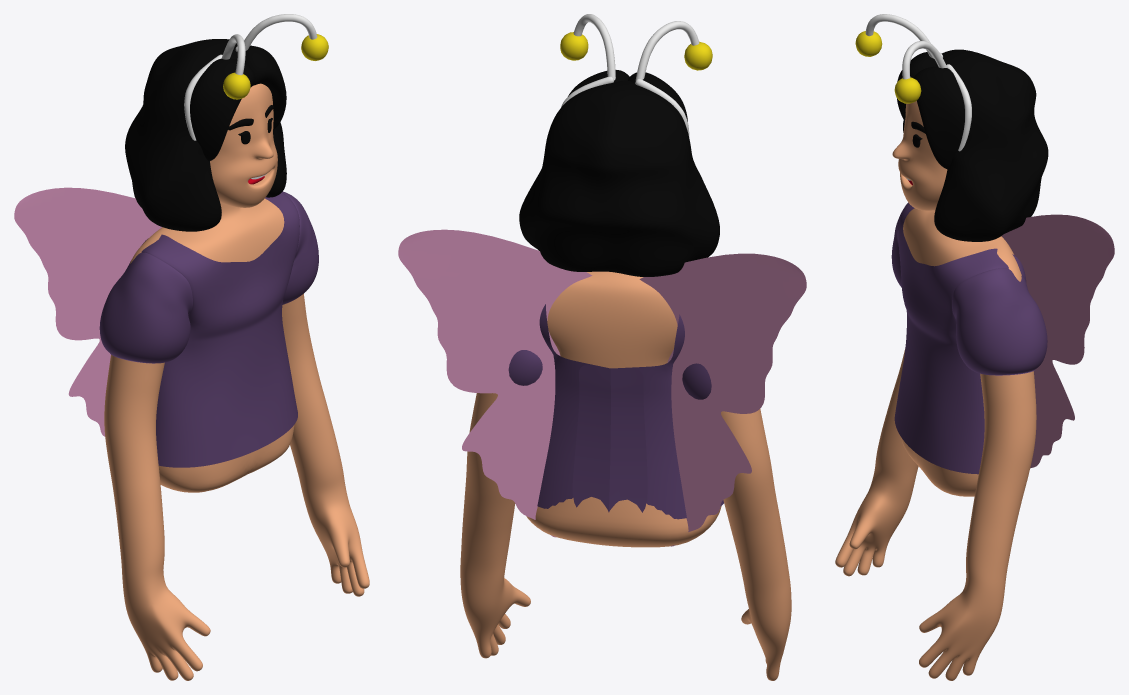
File: Butterfly.glb
3 renders of one model, left to right at view 1: azimuth 30°, elevation 25°; view 2: azimuth 150°, elevation 25°; view 3: azimuth 270°, elevation 25°, orthographic. The views are drawn at different scales.
Visible parts, largest first — view 1: Vert.202, Vert.198, Vert.225, Vert.199, Cube.146, Cube.151, Vert.200, Vert.201, Vert.203; view 2: Vert.225, Vert.198, Vert.199, Vert.202, Vert.200, Vert.201, Cube.151, Vert.203; view 3: Vert.198, Vert.202, Vert.199, Vert.225, Cube.151, Cube.146, Vert.200, Vert.201, Vert.203.
Part boxes in pixels (box(x1,y1,x2,y2)): Vert.202: box(99, 191, 318, 467); Vert.198: box(104, 198, 369, 680); Vert.225: box(14, 187, 161, 436); Vert.199: box(125, 39, 286, 231); Cube.146: box(210, 83, 277, 207); Cube.151: box(190, 45, 286, 160); Vert.200: box(221, 14, 317, 75); Vert.201: box(223, 34, 328, 99); Vert.203: box(184, 45, 252, 140); Vert.225: box(398, 229, 806, 546); Vert.198: box(460, 271, 791, 680); Vert.199: box(519, 80, 719, 276); Vert.202: box(508, 304, 723, 519); Vert.200: box(573, 14, 699, 80); Vert.201: box(560, 32, 712, 70); Cube.151: box(568, 70, 687, 121); Vert.203: box(561, 76, 689, 136); Vert.198: box(835, 208, 1036, 680); Vert.202: box(891, 202, 1047, 474); Vert.199: box(934, 49, 1048, 241); Vert.225: box(1001, 214, 1114, 468); Cube.151: box(897, 52, 964, 169); Cube.146: box(892, 101, 947, 210); Vert.200: box(865, 14, 946, 79); Vert.201: box(855, 31, 921, 103); Vert.203: box(939, 52, 971, 151).
Size of the model in its own units: 7.61 by 13.53 by 5.72.
